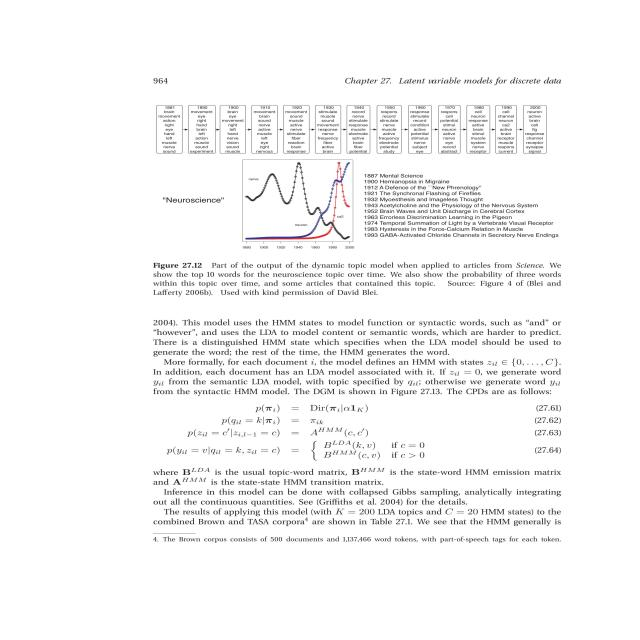diagram: (61, 162, 637, 307)
